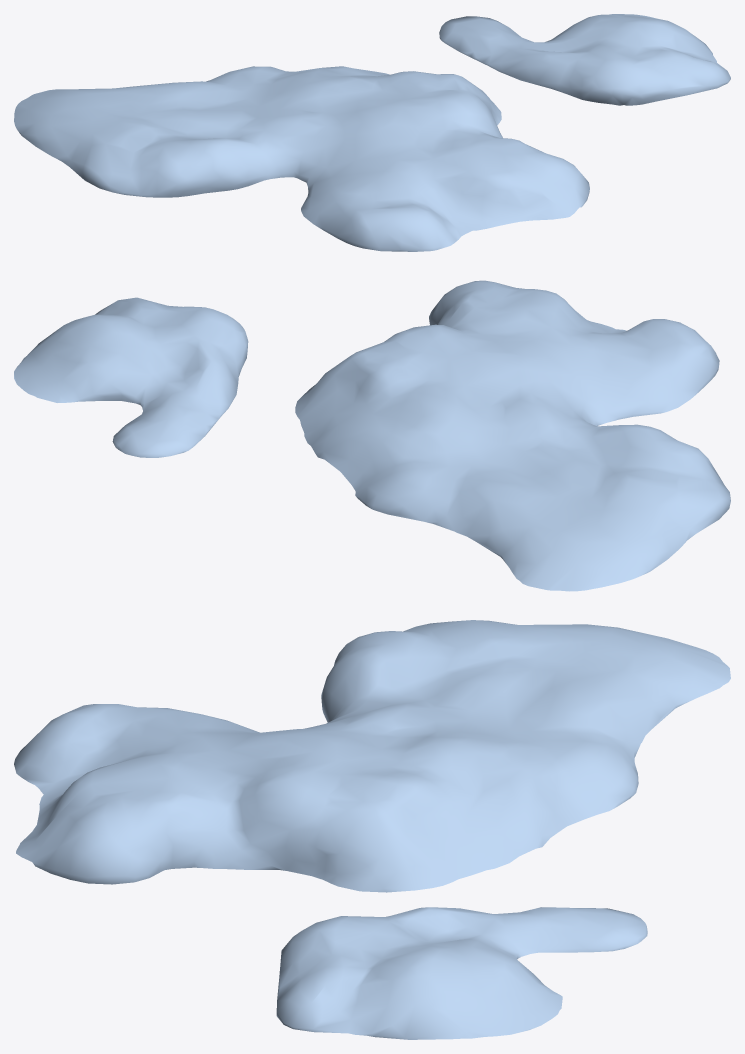
File: IcePatchSmall_04_Bumpy.fbx
3 renders of one model, top to bottom at view 1: azimuth 30°, elevation 25°; view 2: azimuth 150°, elevation 25°; view 3: azimuth 270°, elevation 25°, orthographic. The views are drawn at different scales.
Parts seen in each view (by area): view 1: IcePatchSmall_04_Bumpy.001; view 2: IcePatchSmall_04_Bumpy.001; view 3: IcePatchSmall_04_Bumpy.001.
Boxes of the visible parts, left/top/right/bottom form: IcePatchSmall_04_Bumpy.001: left=14, top=14, right=730, bottom=251; IcePatchSmall_04_Bumpy.001: left=14, top=280, right=730, bottom=591; IcePatchSmall_04_Bumpy.001: left=14, top=620, right=730, bottom=1039.
Size of the model in its own units: 2.02 by 0.1592 by 1.51.
